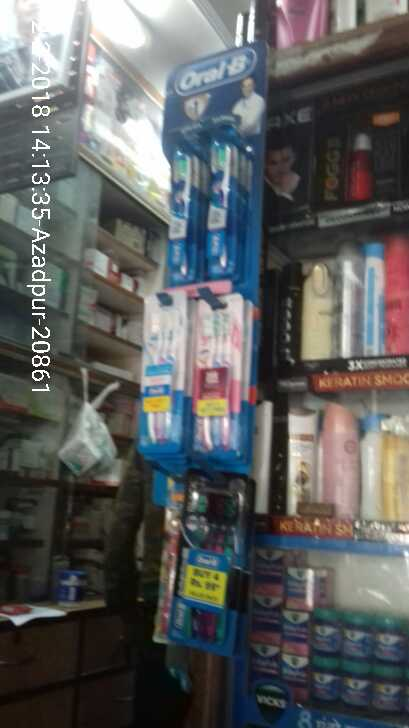oralb: (283, 554, 313, 689), (254, 545, 282, 679), (338, 606, 374, 669), (310, 596, 338, 662), (373, 660, 407, 714), (375, 610, 409, 661), (337, 657, 366, 709), (313, 651, 340, 703)
pharmacy: (182, 479, 233, 647), (189, 306, 238, 454), (134, 306, 182, 453), (197, 142, 240, 274), (160, 142, 190, 278)
